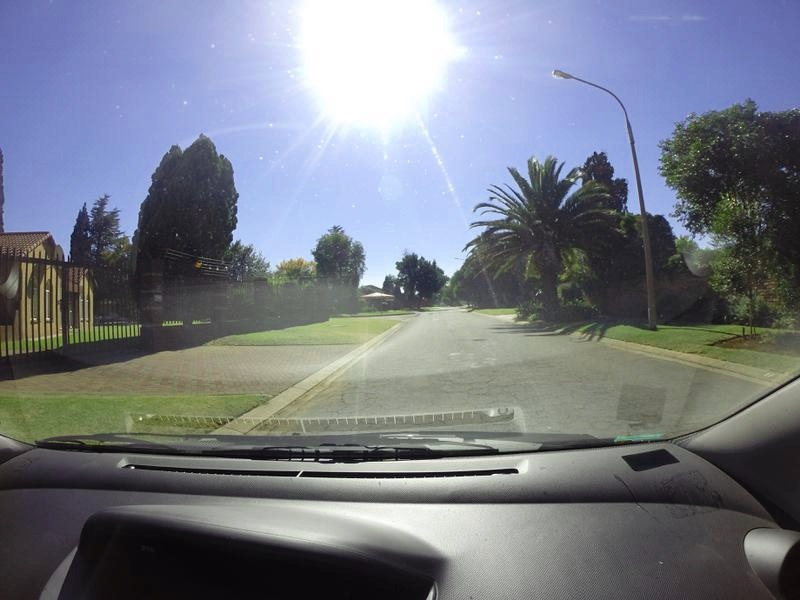pothole: (627, 414, 647, 430)
